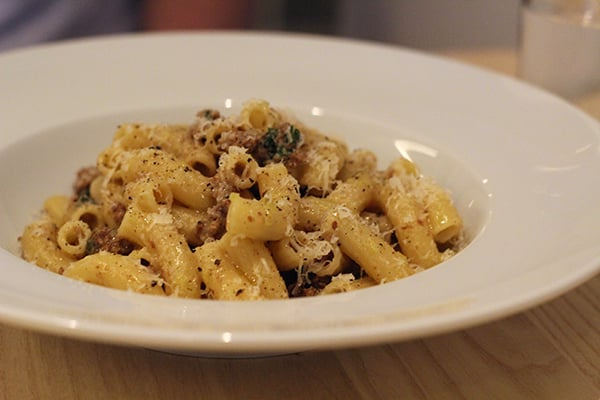curry: (259, 122, 304, 163)
pizza: (516, 0, 600, 97)
sushi: (0, 39, 590, 360)
